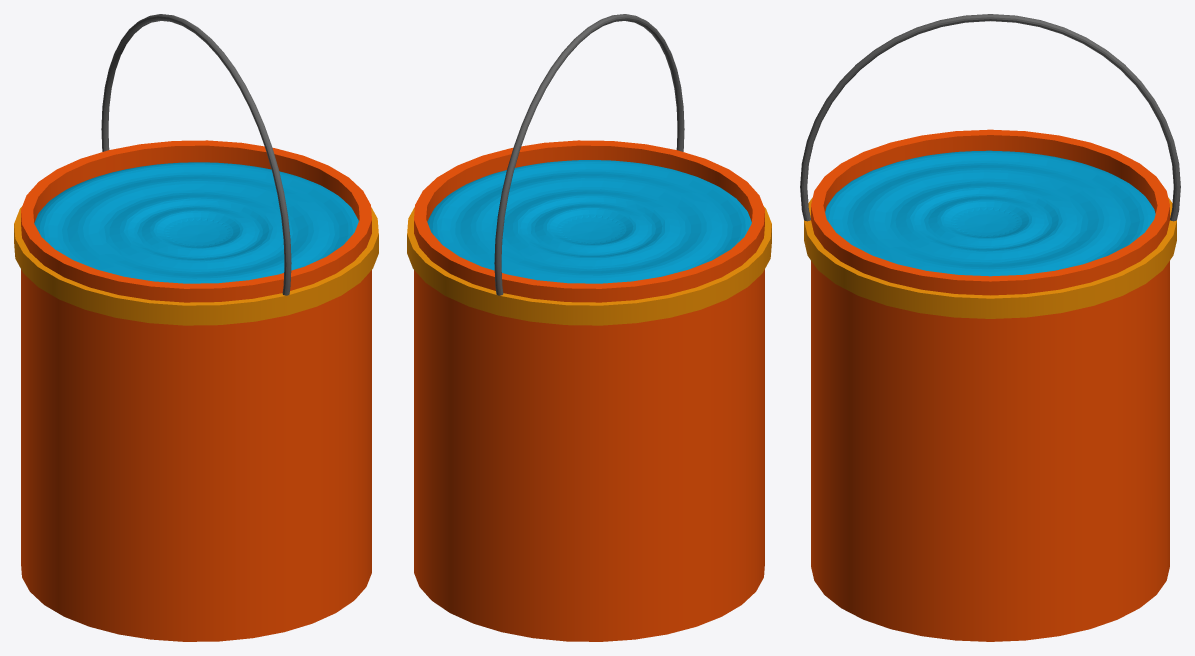
File: SM_Env_CleaningKit.fbx
3 views of the same model, side by side, from view 1: azimuth 30°, elevation 25°; view 2: azimuth 150°, elevation 25°; view 3: azimuth 270°, elevation 25° (orthographic). The views are drawn at different scales.
Parts seen in each view (by area): view 1: Balde, Agua; view 2: Balde, Agua; view 3: Balde, Agua.
Part boxes in pixels (<box>): Balde: <box>14,14,378,641</box>; Agua: <box>34,162,358,283</box>; Balde: <box>407,14,771,641</box>; Agua: <box>427,160,751,283</box>; Balde: <box>800,14,1180,641</box>; Agua: <box>825,150,1155,276</box>.
Bounding box in the file's own units: 208 × 339 × 212.
Materials: 2 (1 with a texture image).
